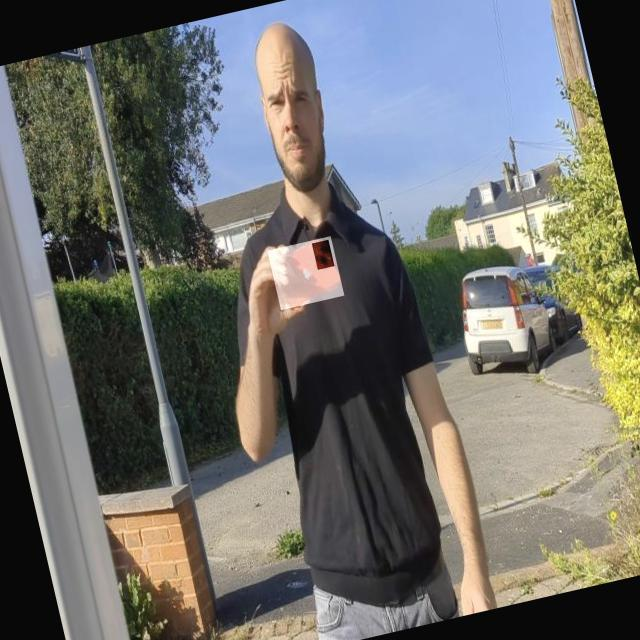lens: (310, 241, 333, 269)
phone: (267, 236, 344, 310)
